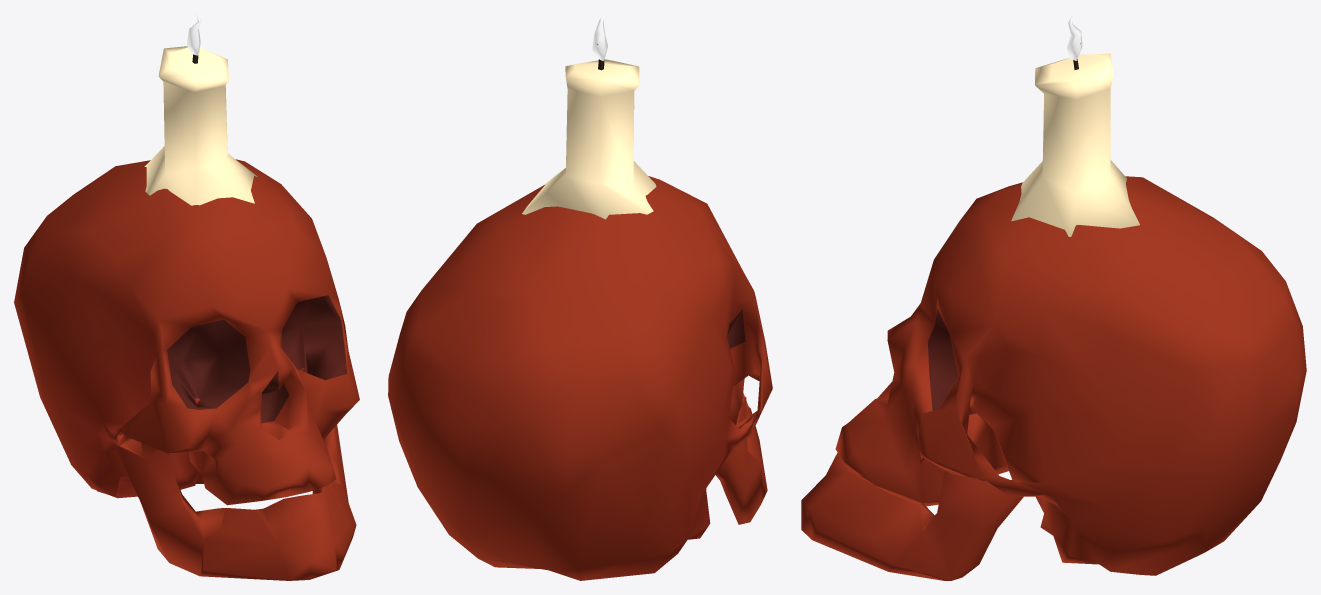
File: CandleSkullShapeB.006.glb
3 renders of one model, left to right at view 1: azimuth 30°, elevation 25°; view 2: azimuth 150°, elevation 25°; view 3: azimuth 270°, elevation 25°, orthographic. The views are drawn at different scales.
Visible parts, largest first — view 1: CandleSkullShapeB.006; view 2: CandleSkullShapeB.006; view 3: CandleSkullShapeB.006.
Part boxes in pixels (<box>): CandleSkullShapeB.006: <box>14,14,359,580</box>; CandleSkullShapeB.006: <box>388,14,772,580</box>; CandleSkullShapeB.006: <box>801,15,1306,580</box>.
Bounding box in the file's own units: 0.2005 × 0.3649 × 0.3132.
2 materials, 2 textured.
